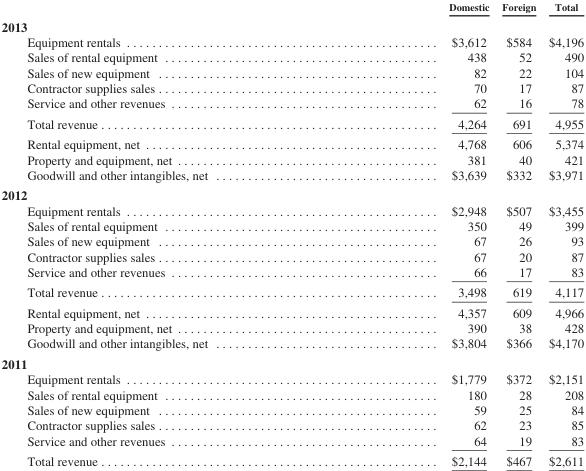table: (0, 0, 583, 467)
table column: (0, 0, 327, 467), (327, 0, 494, 467), (494, 0, 541, 467), (541, 0, 583, 467)
table column header: (0, 0, 583, 15)
table projected row header: (0, 15, 583, 34), (0, 184, 583, 202), (0, 353, 583, 371)
table row: (0, 281, 583, 302), (0, 113, 583, 133), (0, 15, 583, 34), (0, 95, 583, 113), (0, 133, 583, 151), (0, 166, 583, 184), (0, 184, 583, 202), (0, 263, 583, 281), (0, 302, 583, 320), (0, 335, 583, 353), (0, 353, 583, 371), (0, 432, 583, 450), (0, 450, 583, 467), (0, 64, 583, 80), (0, 217, 583, 233), (0, 401, 583, 417), (0, 0, 583, 15), (0, 34, 583, 49), (0, 49, 583, 64), (0, 80, 583, 95), (0, 151, 583, 166), (0, 202, 583, 217), (0, 233, 583, 248), (0, 248, 583, 263), (0, 320, 583, 335), (0, 371, 583, 386), (0, 386, 583, 401), (0, 417, 583, 432)
